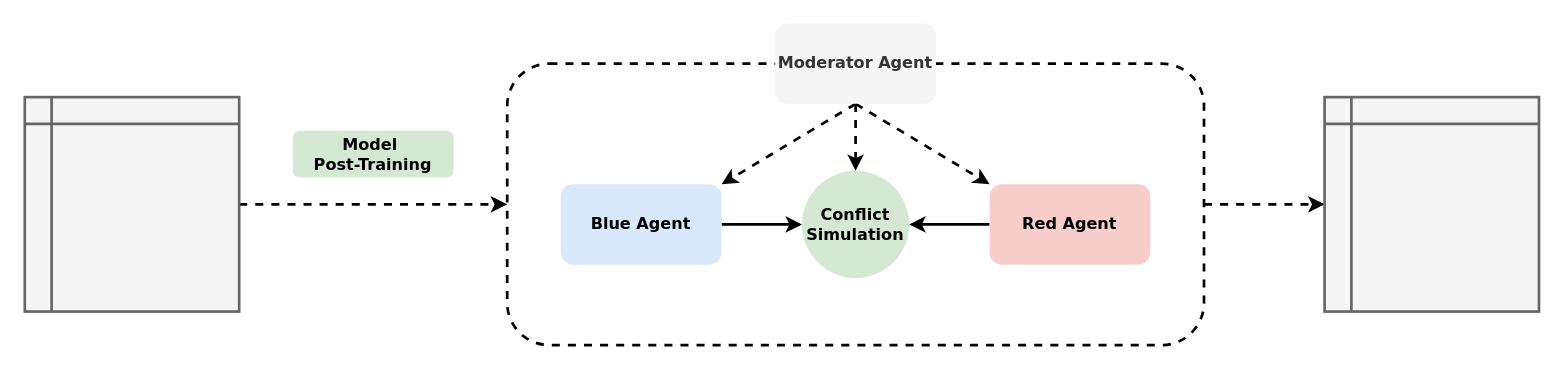
Image size: 1562x369. Some labels were removed from this diagram. The box of each missing label's shape, as (x1, y1, x2, y2) in pixels:
Input Dataset: - Scenario - Blue Strategy - Red Strategy: (23, 95, 240, 312)
Output Dataset: - Event Log - Decision Tree - Outcome: (1323, 95, 1540, 312)
